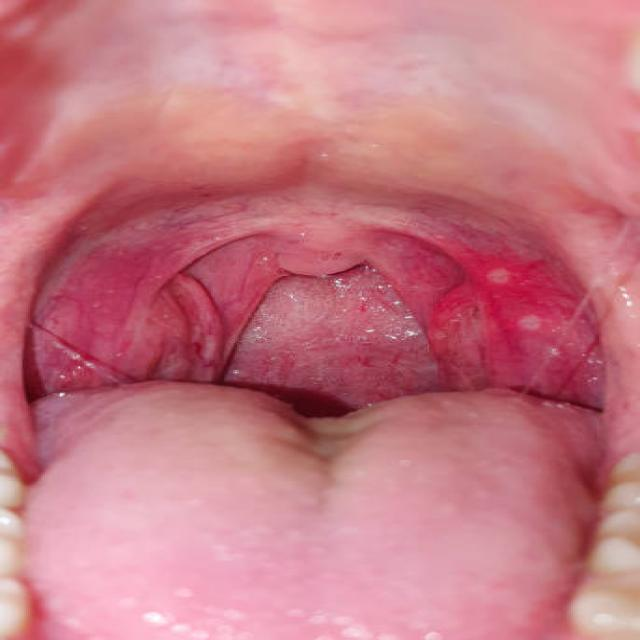processing_area: (0, 154, 638, 639)
ulcer-detection: (415, 241, 593, 394)
